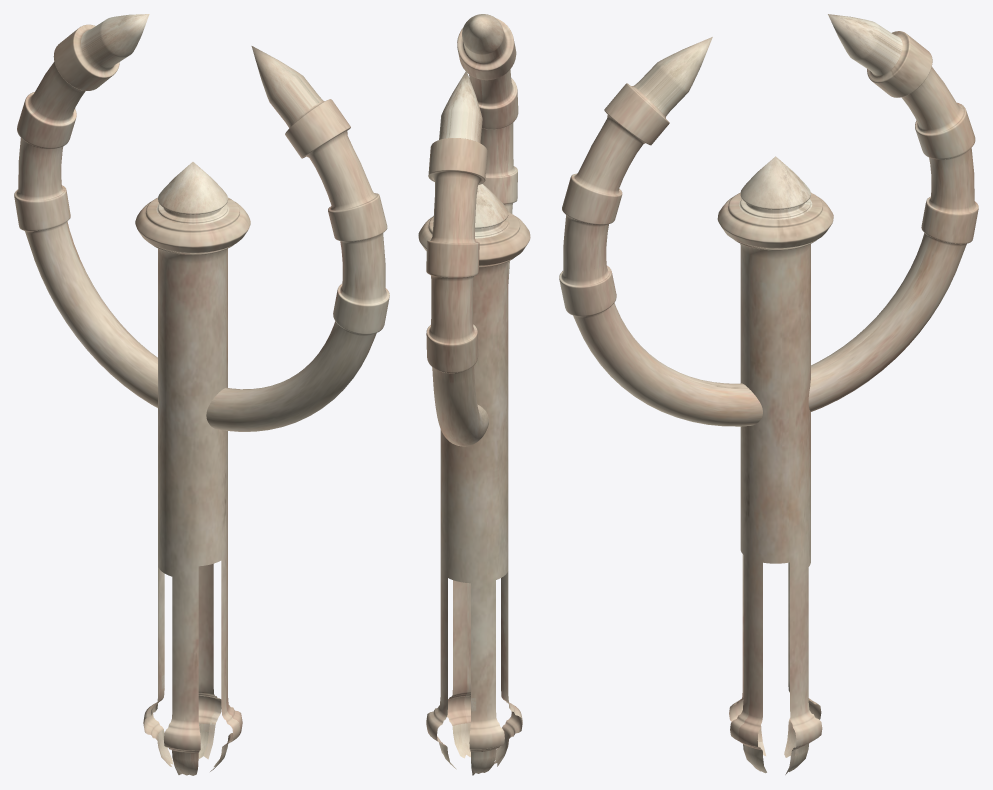
File: SymbolCOMBINED1.fbm.fbx
The picture shows the model from 3 angles, left to right: view 1: azimuth 30°, elevation 25°; view 2: azimuth 150°, elevation 25°; view 3: azimuth 270°, elevation 25°; orthographic projection. The views are drawn at different scales.
Parts seen in each view (by area): view 1: polySurface1; view 2: polySurface1; view 3: polySurface1.
Boxes of the visible parts, box(x1,y1,x2,y2) form: polySurface1: box(14, 14, 389, 775); polySurface1: box(418, 14, 530, 775); polySurface1: box(559, 14, 978, 774).
Bounding box in the file's own units: 1.72 × 6.52 × 3.34.
1 material, 1 textured.
